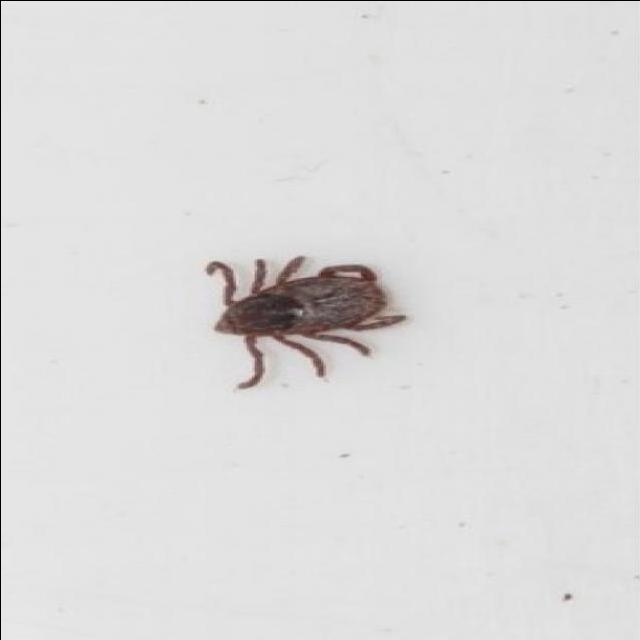Rhipicephalus Sanguineus-F: (207, 254, 409, 389)
